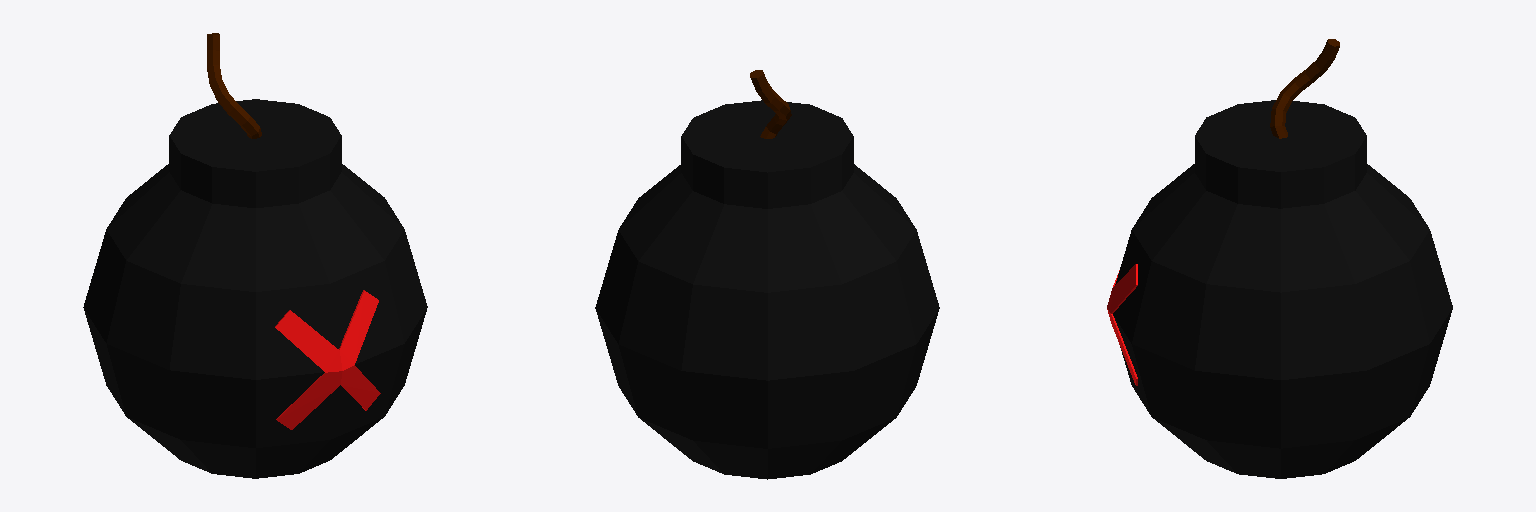
Rendered from bomb.obj.
3 views of the same model, side by side, from view 1: azimuth 30°, elevation 25°; view 2: azimuth 150°, elevation 25°; view 3: azimuth 270°, elevation 25° (orthographic).
Visible parts, largest first — view 1: Bomb; view 2: Bomb; view 3: Bomb.
Boxes of the visible parts, x1,y1,x2,y2 form: Bomb: [83, 33, 427, 478]; Bomb: [595, 70, 939, 479]; Bomb: [1107, 39, 1452, 478].
Size of the model in its own units: 10.27 by 13.66 by 10.32.